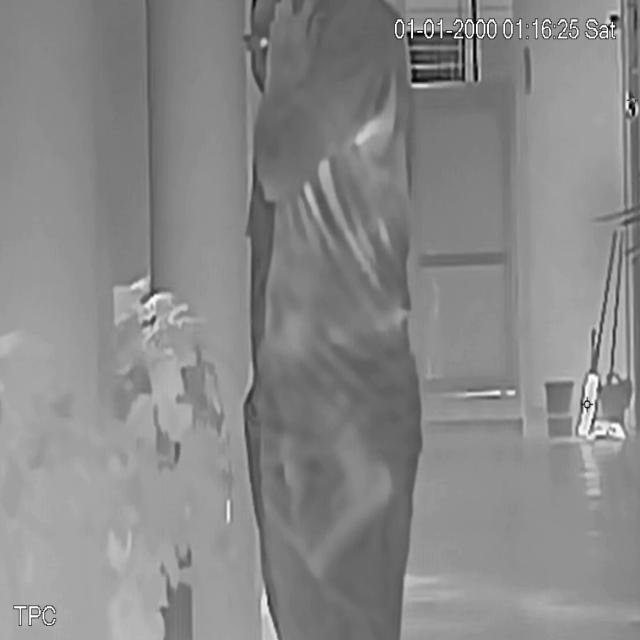Weapon: (290, 418, 411, 594)
